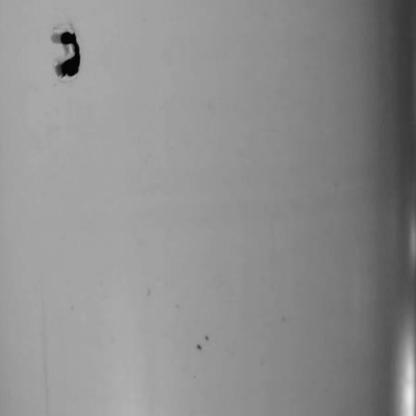kongdong: (44, 26, 92, 84)
